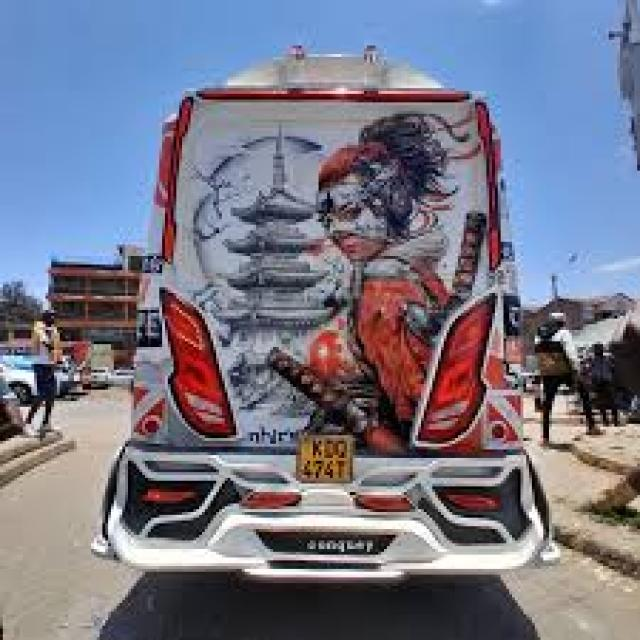bus: (13, 13, 616, 626)
